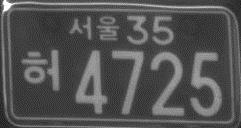2: (148, 51, 187, 117)
3: (125, 14, 148, 44)
4: (73, 48, 108, 115)
5: (189, 51, 222, 119), (152, 14, 174, 46)
7: (110, 49, 146, 116)
서울_O: (69, 14, 120, 42)
허: (19, 49, 60, 94)
